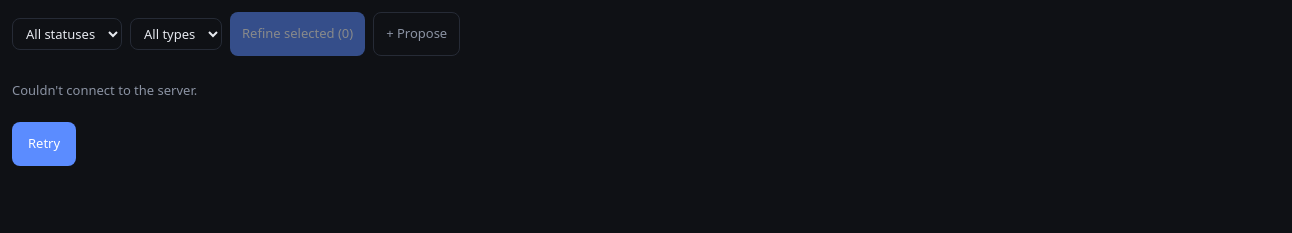
Scenario: BacklogTab › renders an error message with a working Retry button on a generic fetch failure
Expected: the text "Couldn't connect to the server." is shown, top-left (12, 81), bottom-right (197, 100)
Click the button "Retry" at (44, 144), box top-left (12, 122), bottom-right (76, 166)
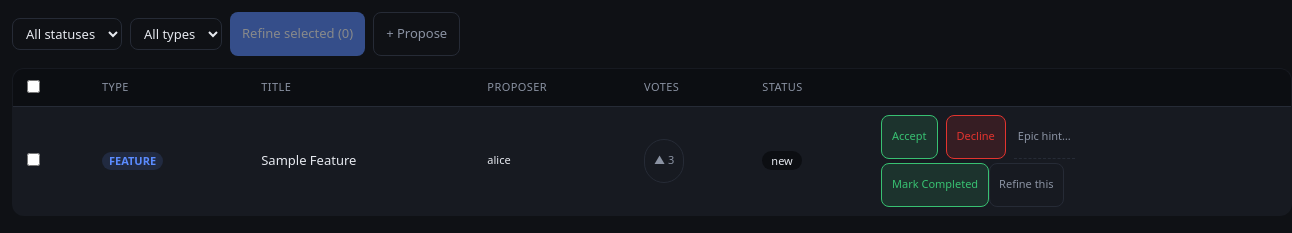
Expected: the text "Sample Feature" is shown, top-left (251, 106), bottom-right (477, 215)
